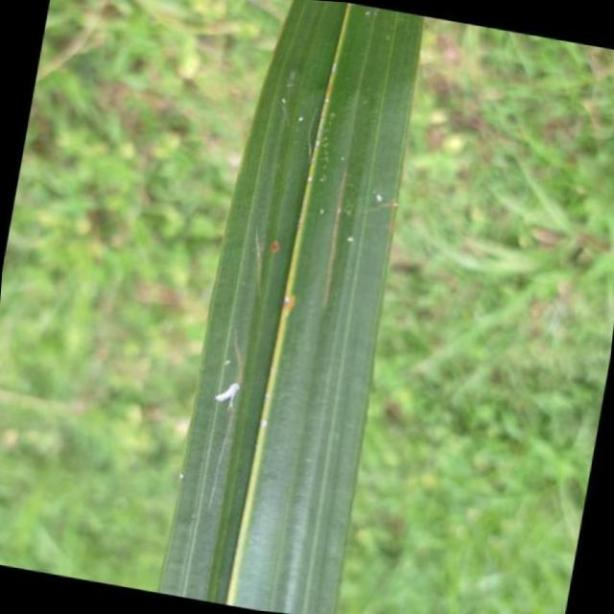Boron: (163, 0, 424, 614)
